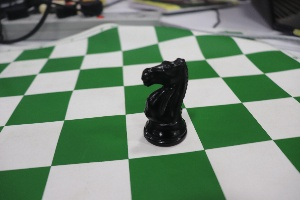black_horse: (131, 42, 192, 151)
